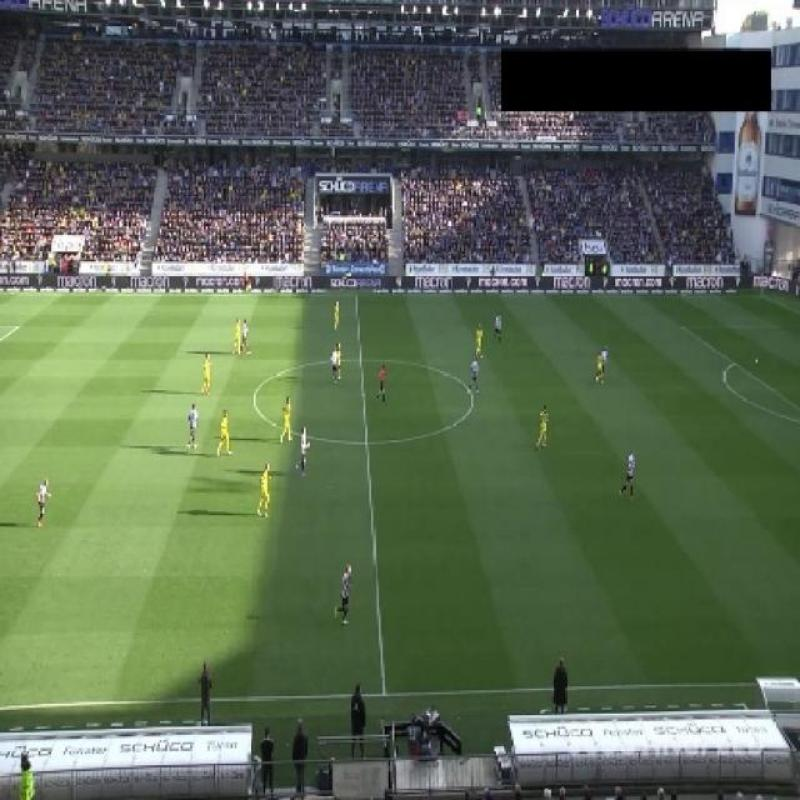1: (748, 284, 770, 302)
10: (722, 351, 742, 371)
13: (348, 280, 366, 302)
14: (350, 346, 371, 370)
15: (354, 425, 378, 456)
16: (367, 675, 398, 704)
9: (7, 314, 28, 334), (673, 315, 691, 335)
c: (242, 385, 266, 415), (460, 389, 485, 415)
